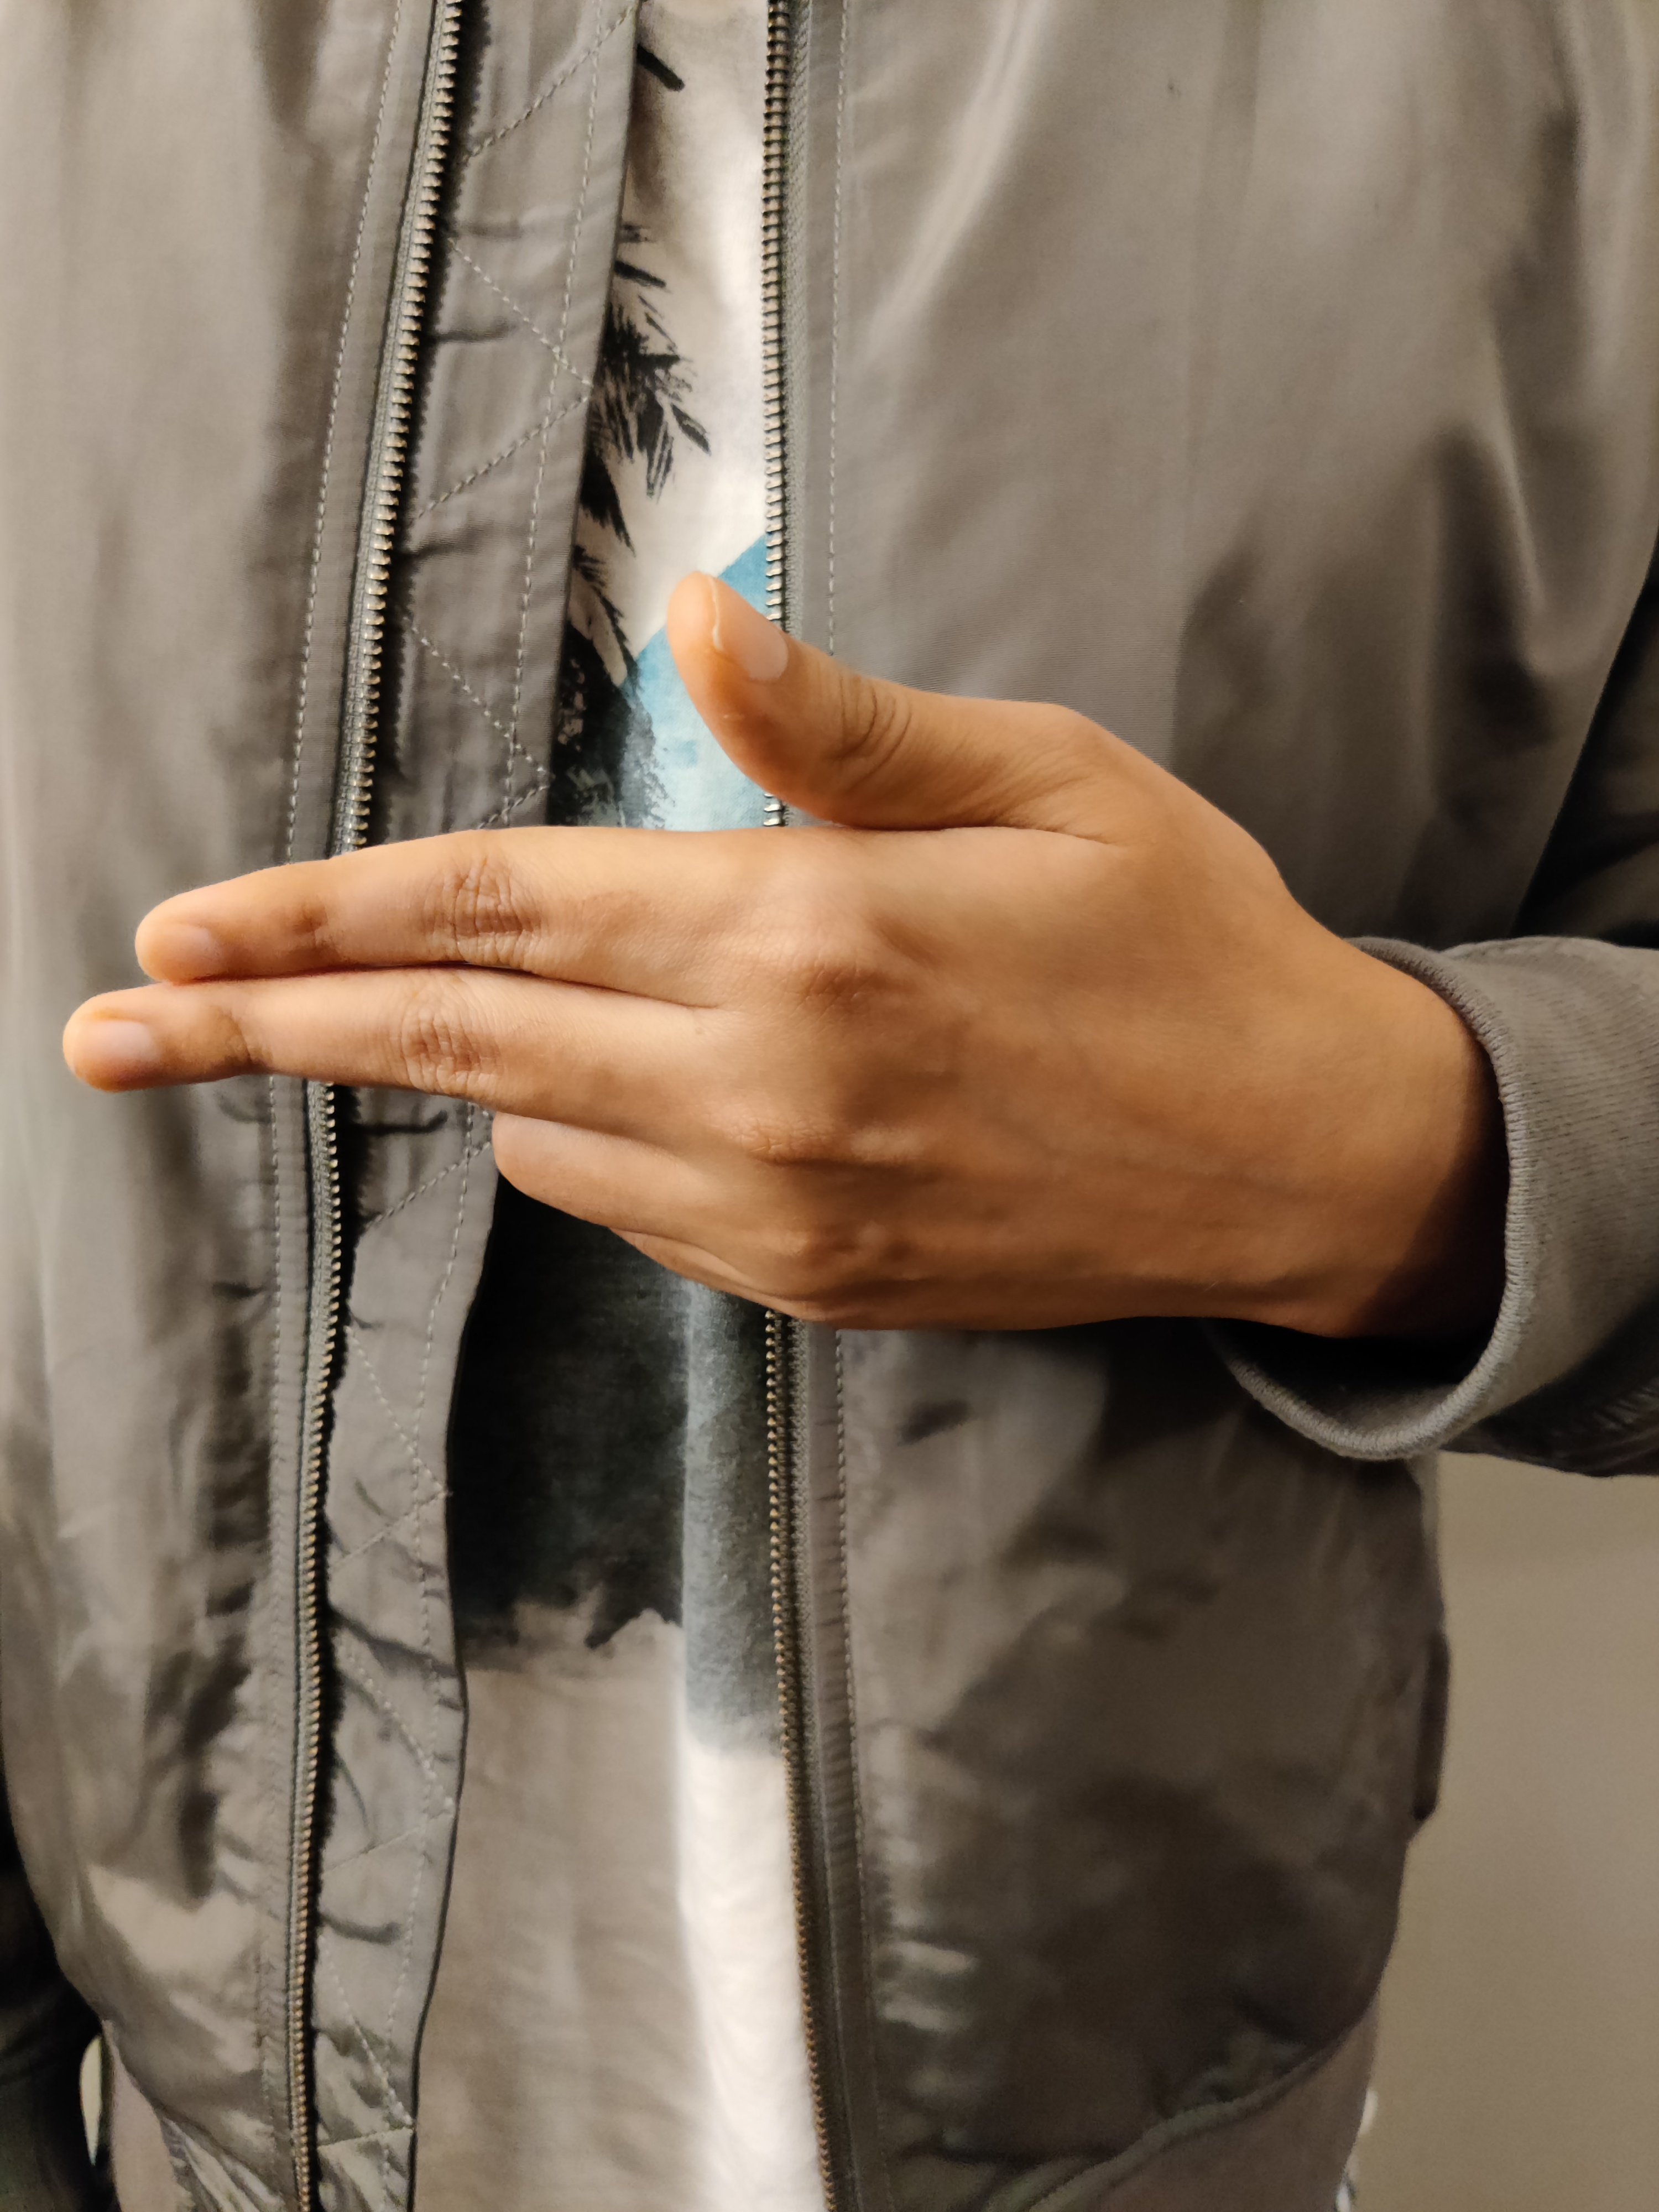right: (73, 517, 1619, 1561)
